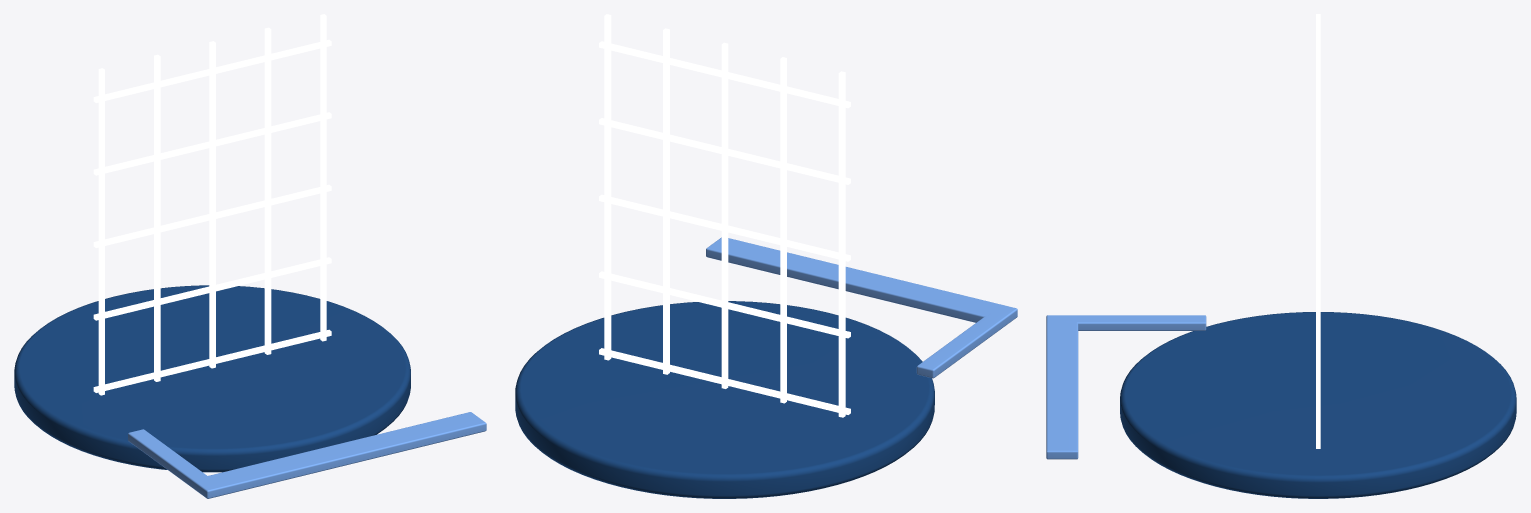
The model's file is theme_13.glb.
3 views of the same model, side by side, from view 1: azimuth 30°, elevation 25°; view 2: azimuth 150°, elevation 25°; view 3: azimuth 270°, elevation 25° (orthographic). The views are drawn at different scales.
Parts seen in each view (by area): view 1: theme_13; view 2: theme_13; view 3: theme_13.
Part boxes in pixels (<box>): theme_13: <box>14,14,486,498</box>; theme_13: <box>515,14,1017,498</box>; theme_13: <box>1046,14,1516,498</box>.
Size of the model in its own units: 1.24 by 1.2 by 1.47.
